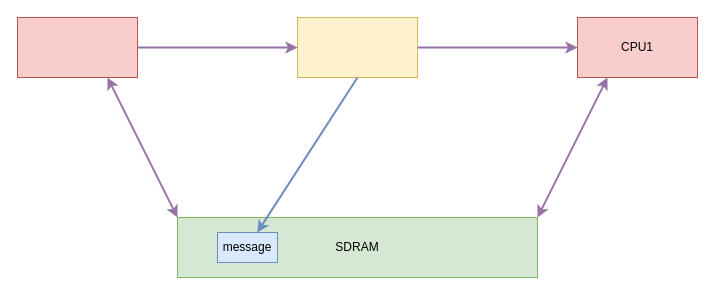
This 715x295 diagram has some shape labels left out. Here are the shapes that lost their labels. From the top down, the box of each, then its label:
(16, 16, 138, 78): CPU0
(296, 16, 418, 78): Mailbox
